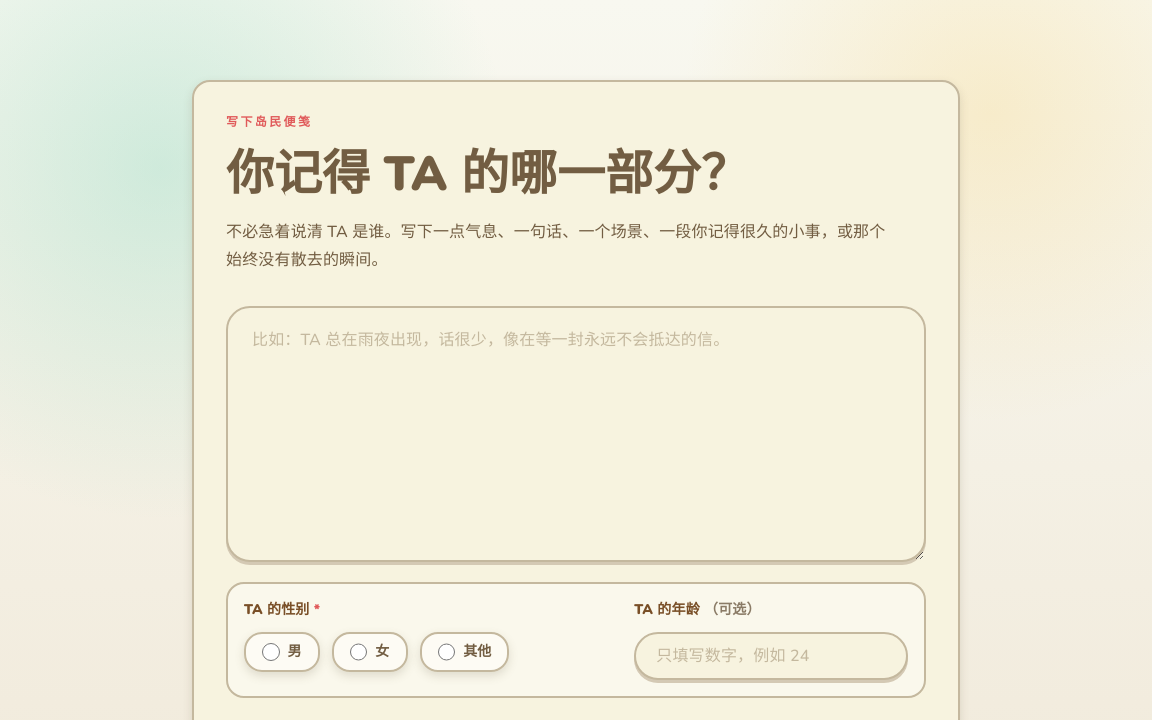
Test: StepPost › 未配置模型时点击领取登岛问卷会直接拦截
In the text box named "最初的印象": (576, 434) [226,306,926,562], type "TA 总在雨夜出现，话很少，像在等一封永远不会抵达的信。"
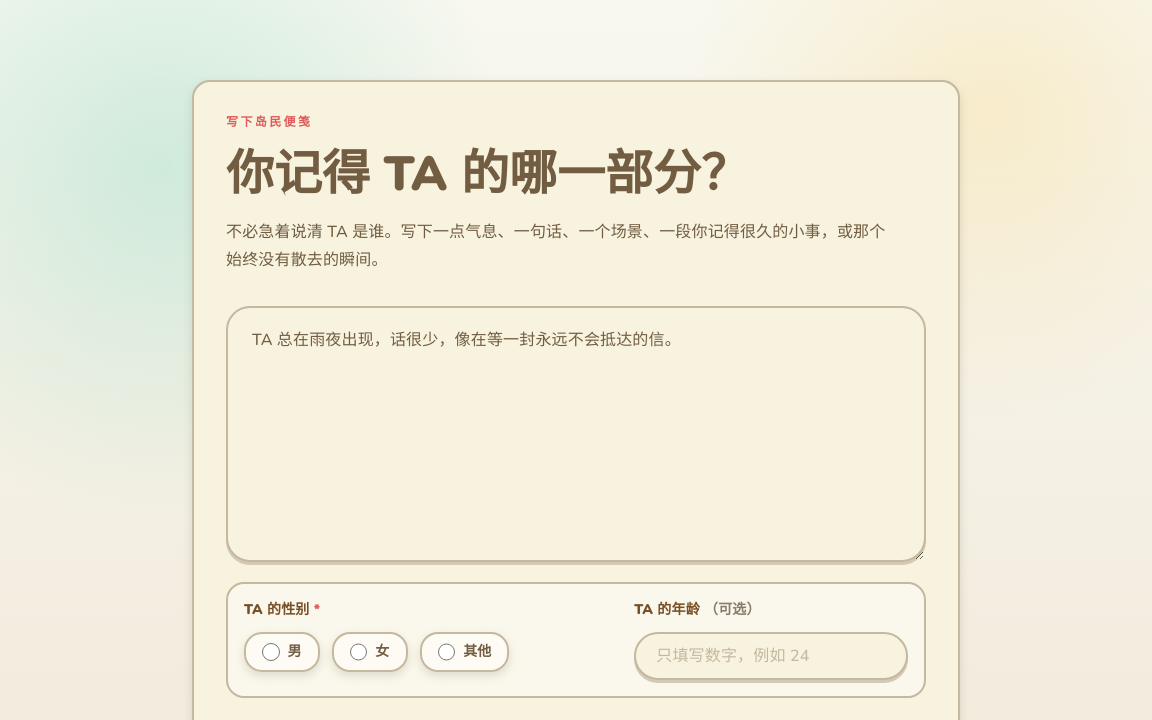
Click the radio button labelled "女": (359, 652) [350,643,367,661]
(page scrolled)
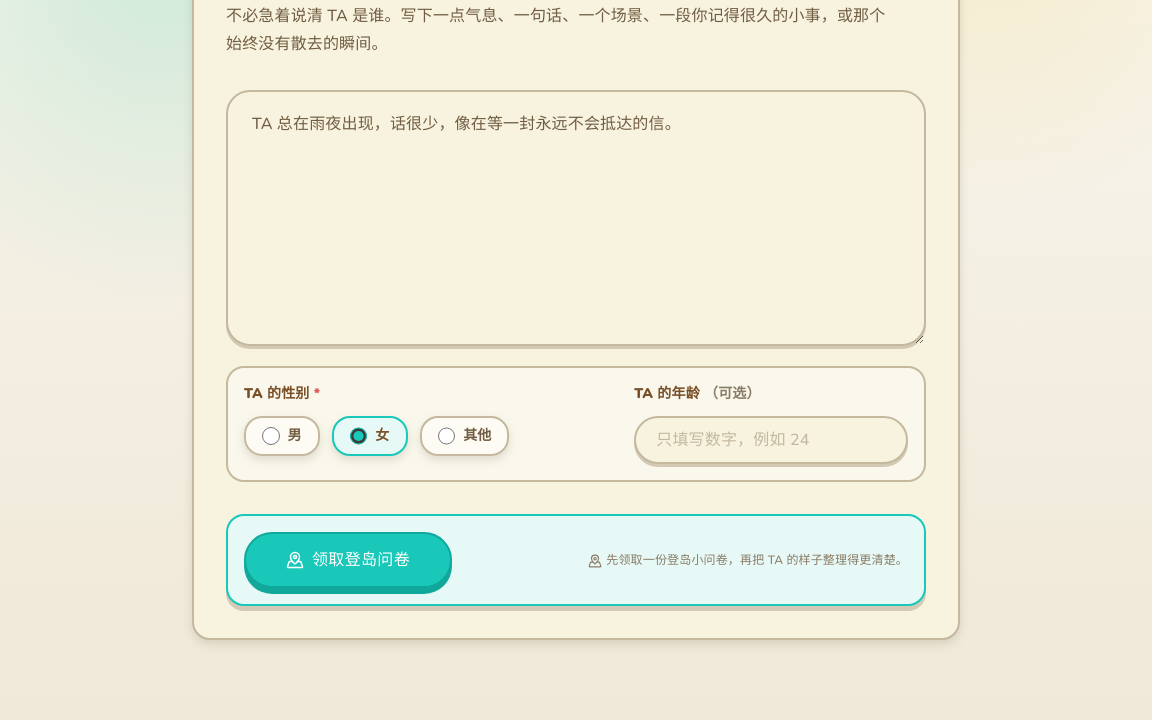
Click the button "领取登岛问卷": (348, 560) [244,532,452,588]
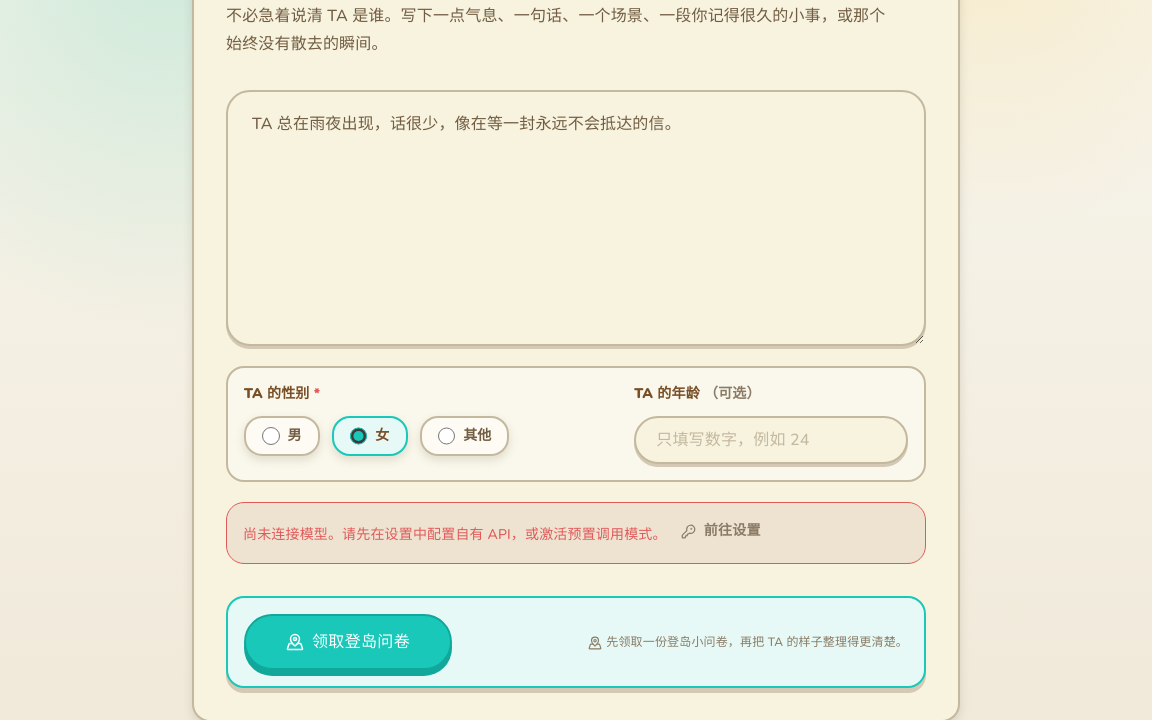
Now the text "尚未连接模型。请先在设置中配置自有 API，或激活预置调用模式。 前往设置" is shown, box [226,502,926,564]
